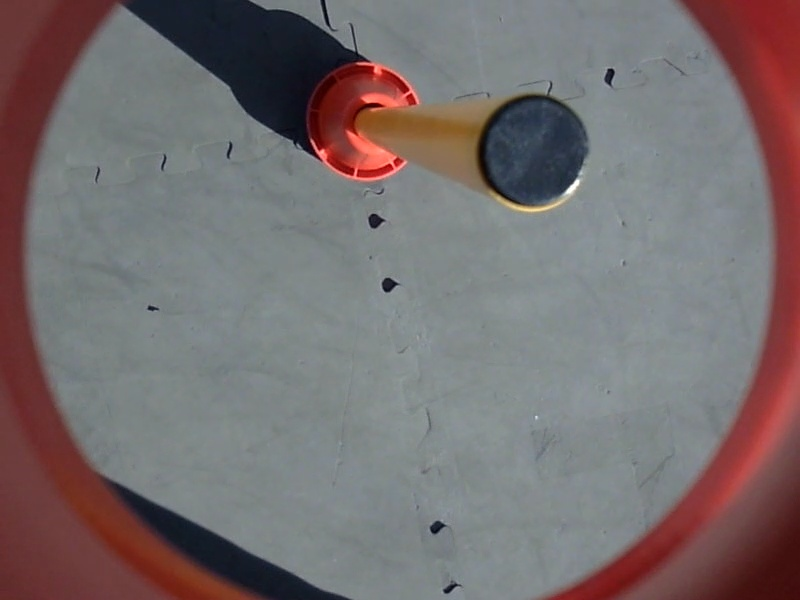tip: (473, 91, 597, 215)
